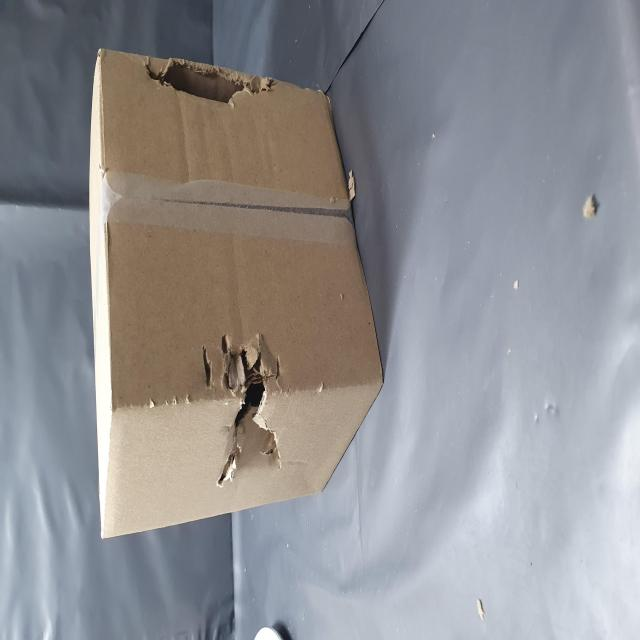damaged: (92, 352, 174, 510), (299, 254, 324, 459)
